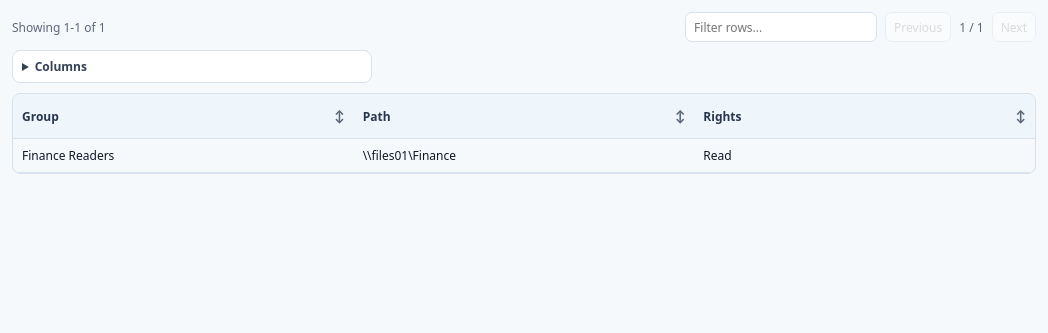
Test: VirtualTable › lets reviewers remove columns through checkboxes
This screenshot has width=1048, height=333.
Click the heading "Columns": (61, 66) [35,58,87,75]
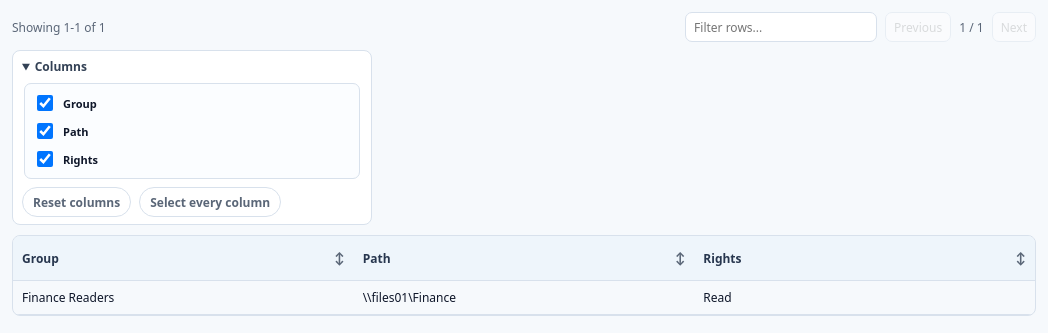
Click the checkbox labelled "Path": (45, 131) [37,123,53,139]
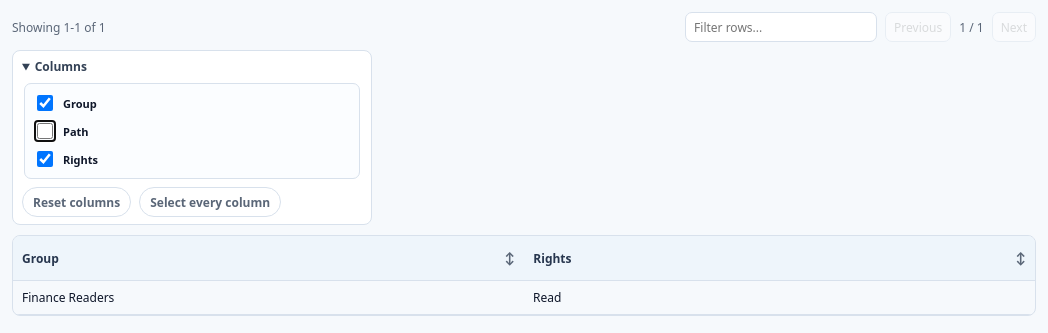
Expected: the column heading "Group ↕" is shown, [13,236,524,280]
Expected: the button "Path ↕" is gone
